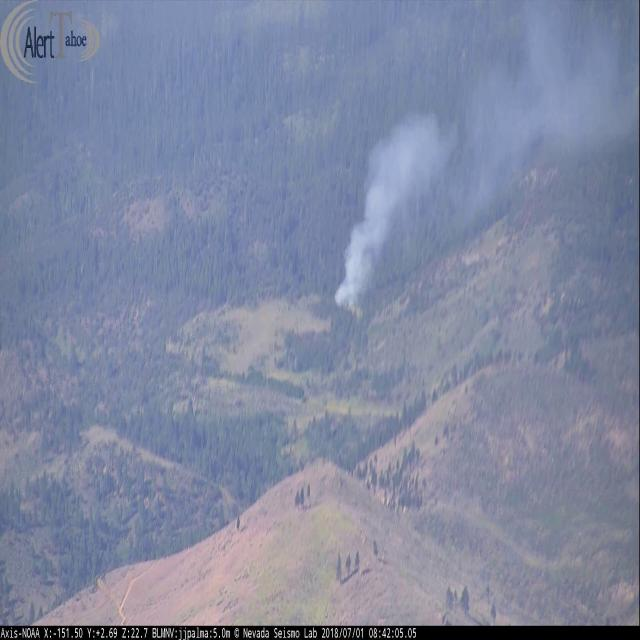smoke: (328, 79, 515, 322)
